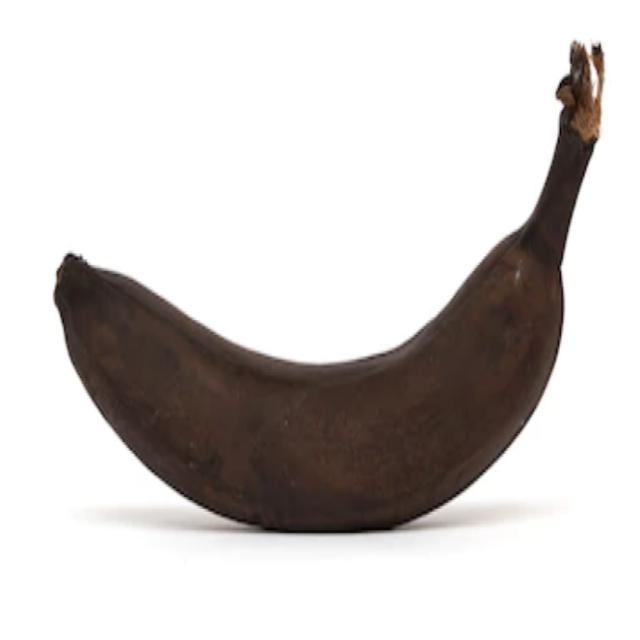rotten-banana: (52, 37, 606, 533)
